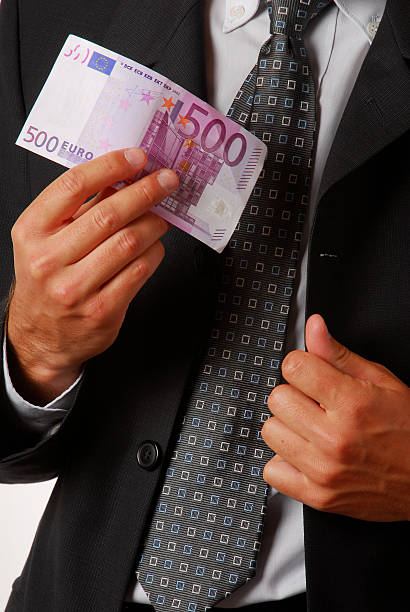billete: (13, 32, 270, 257)
